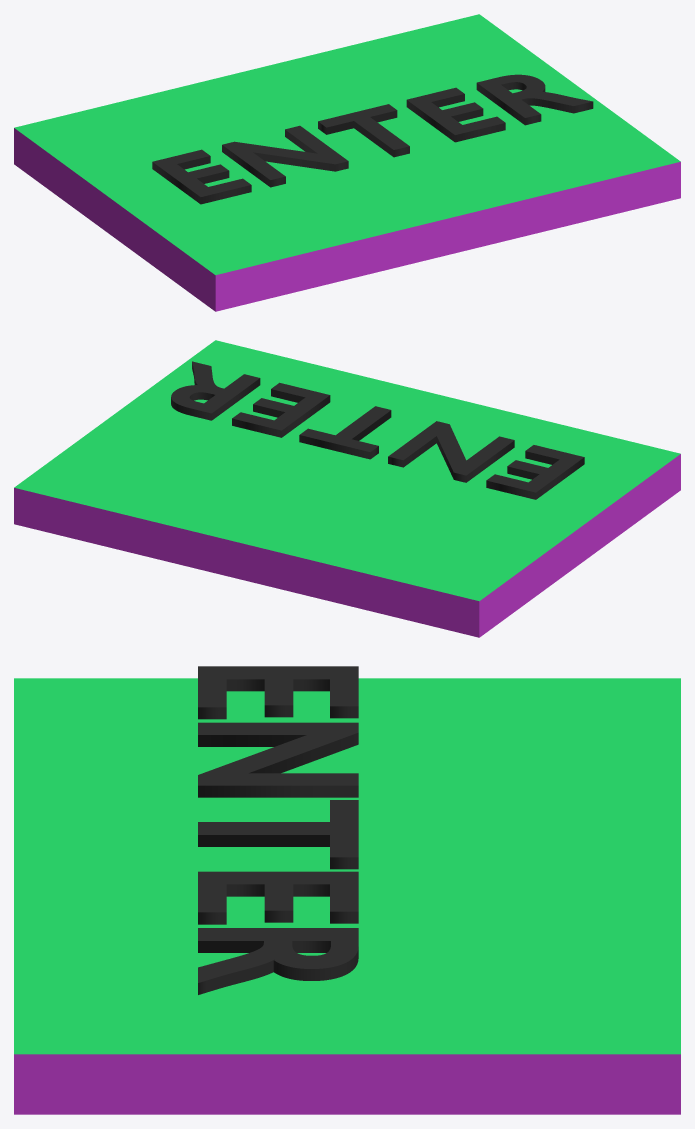
The model's file is Enter.glb.
The picture shows the model from 3 angles, top to bottom: view 1: azimuth 30°, elevation 25°; view 2: azimuth 150°, elevation 25°; view 3: azimuth 270°, elevation 25°; orthographic projection. The views are drawn at different scales.
Parts seen in each view (by area): view 1: Cube.004, Text.001; view 2: Cube.004, Text.001; view 3: Cube.004, Text.001.
Boxes of the visible parts, left/top/right/bottom form: Cube.004: left=14, top=14, right=680, bottom=311; Text.001: left=152, top=74, right=593, bottom=204; Cube.004: left=14, top=340, right=680, bottom=637; Text.001: left=171, top=361, right=584, bottom=499; Cube.004: left=14, top=678, right=680, bottom=1114; Text.001: left=198, top=666, right=358, bottom=994.
Bounding box in the file's own units: 4 × 0.5246 × 3.
